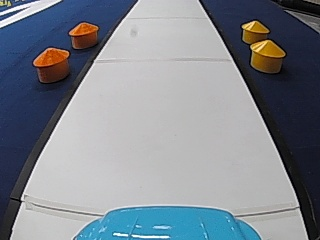granary: (31, 44, 69, 83), (247, 38, 286, 72), (67, 20, 98, 49), (239, 18, 270, 43)
